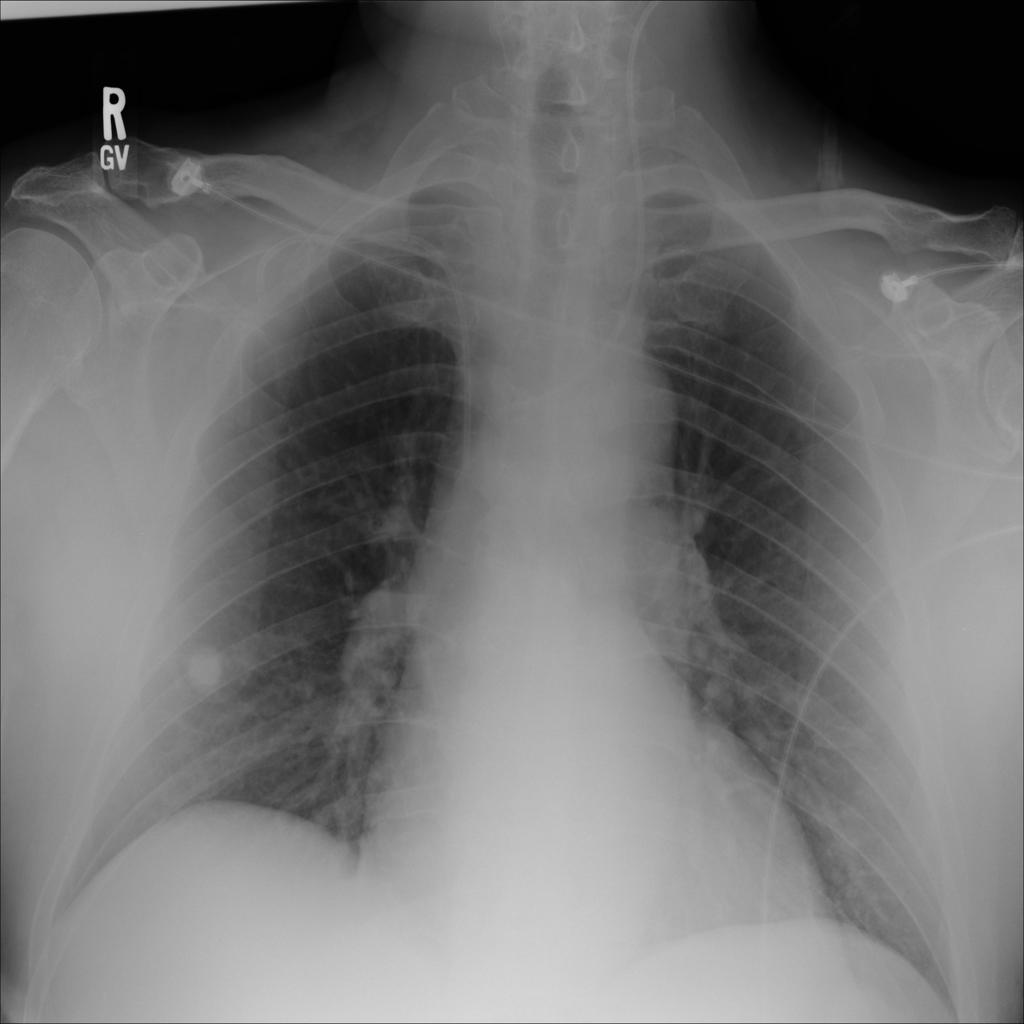nodule: (173, 630, 249, 707)
